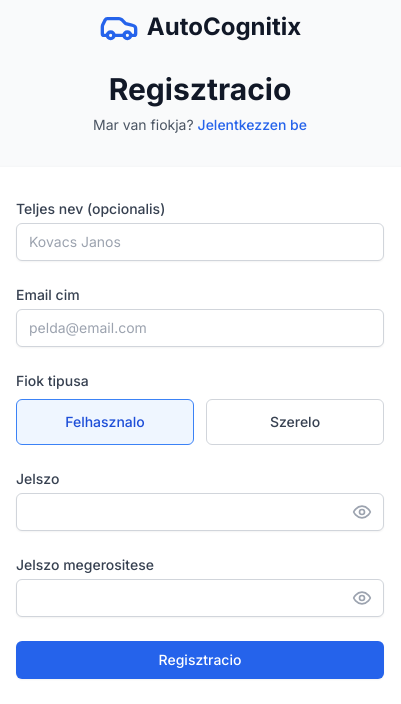
Scenario: RegisterPage › should show password requirements when password field is focused
Expected: the text "Legalább 8 karakter" is not shown
# Type a character to trigger the PasswordStrengthMeter
Type "a" into the password field labelled "Jelszo" at (200, 512), box top-left (16, 493), bottom-right (384, 531)
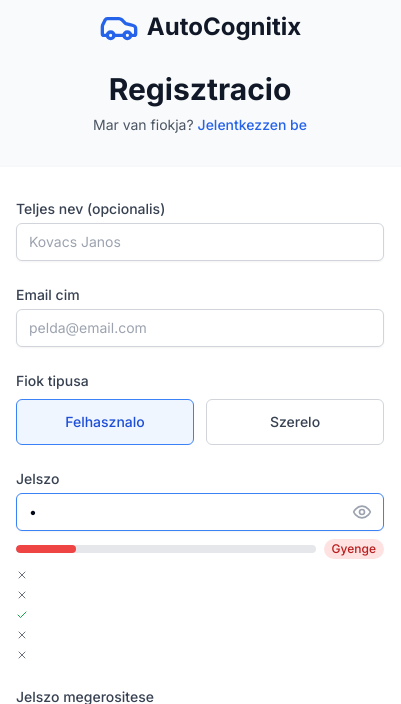
Result: the list item "Legalább 8 karakter" is shown at top-left (16, 567), bottom-right (147, 582)
Result: the list item "Nagybetű (A-Z)" is shown at top-left (16, 587), bottom-right (123, 602)
Result: the list item "Kisbetű (a-z)" is shown at top-left (16, 607), bottom-right (108, 622)
